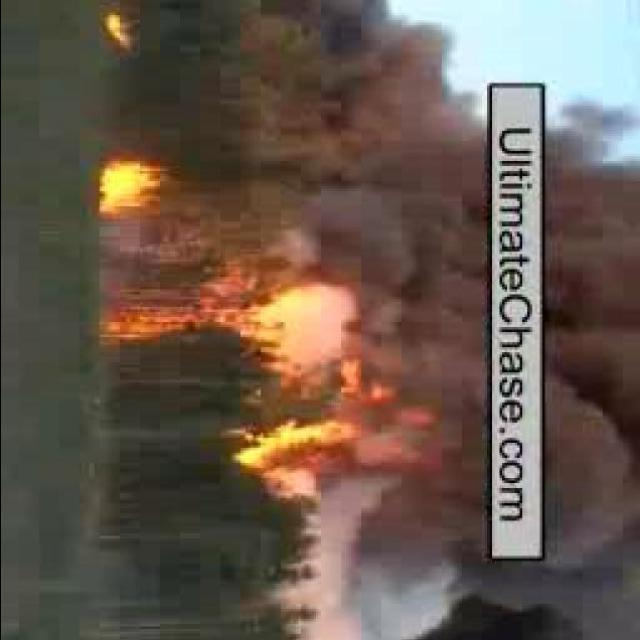Fire: (237, 400, 402, 502), (100, 284, 247, 360), (95, 166, 161, 218), (99, 13, 138, 51)
